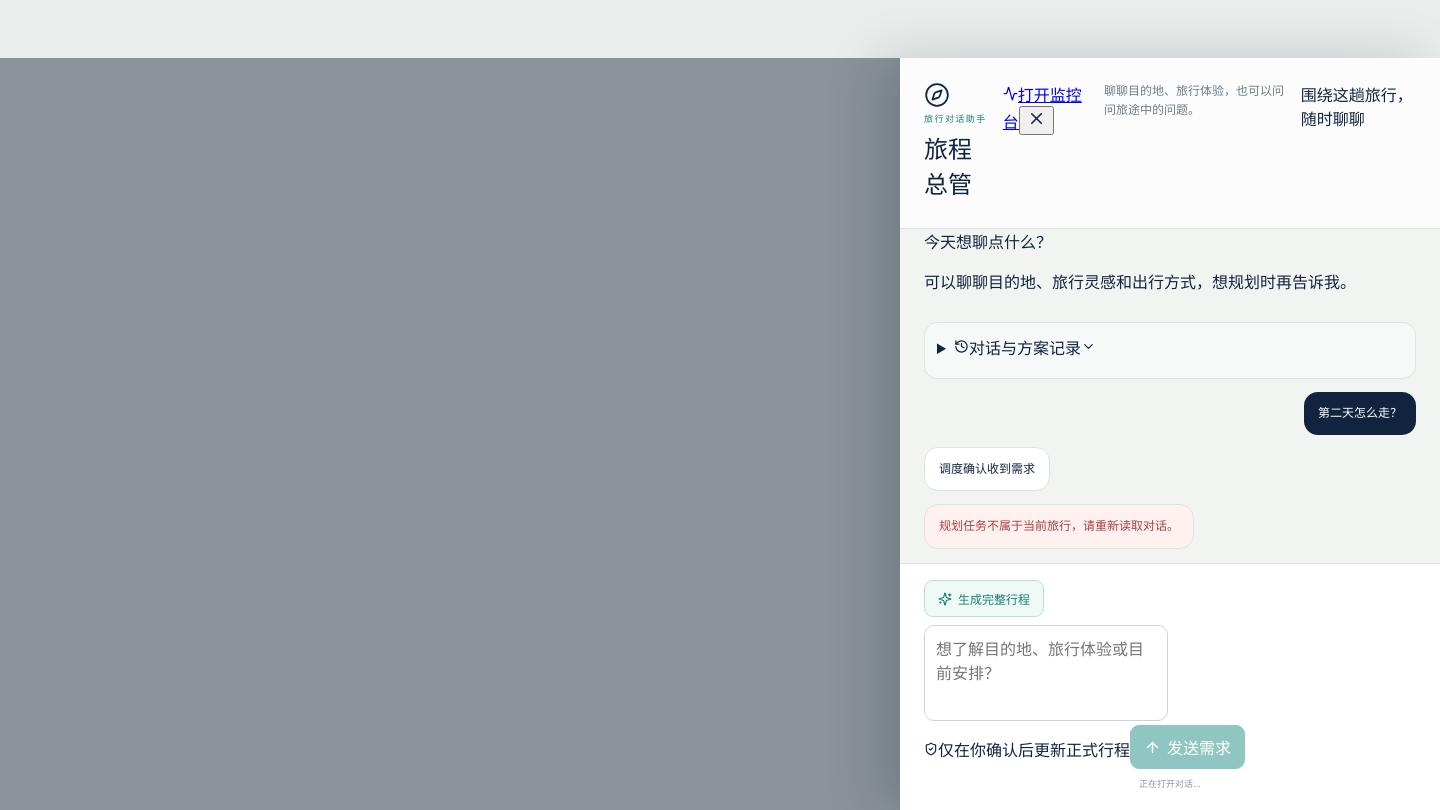
Test: renders the authoritative tool answer once in its conversation turn
(page scrolled)
Click the heading "对话与方案记录" at [1025, 348], box [954,338,1096,358]
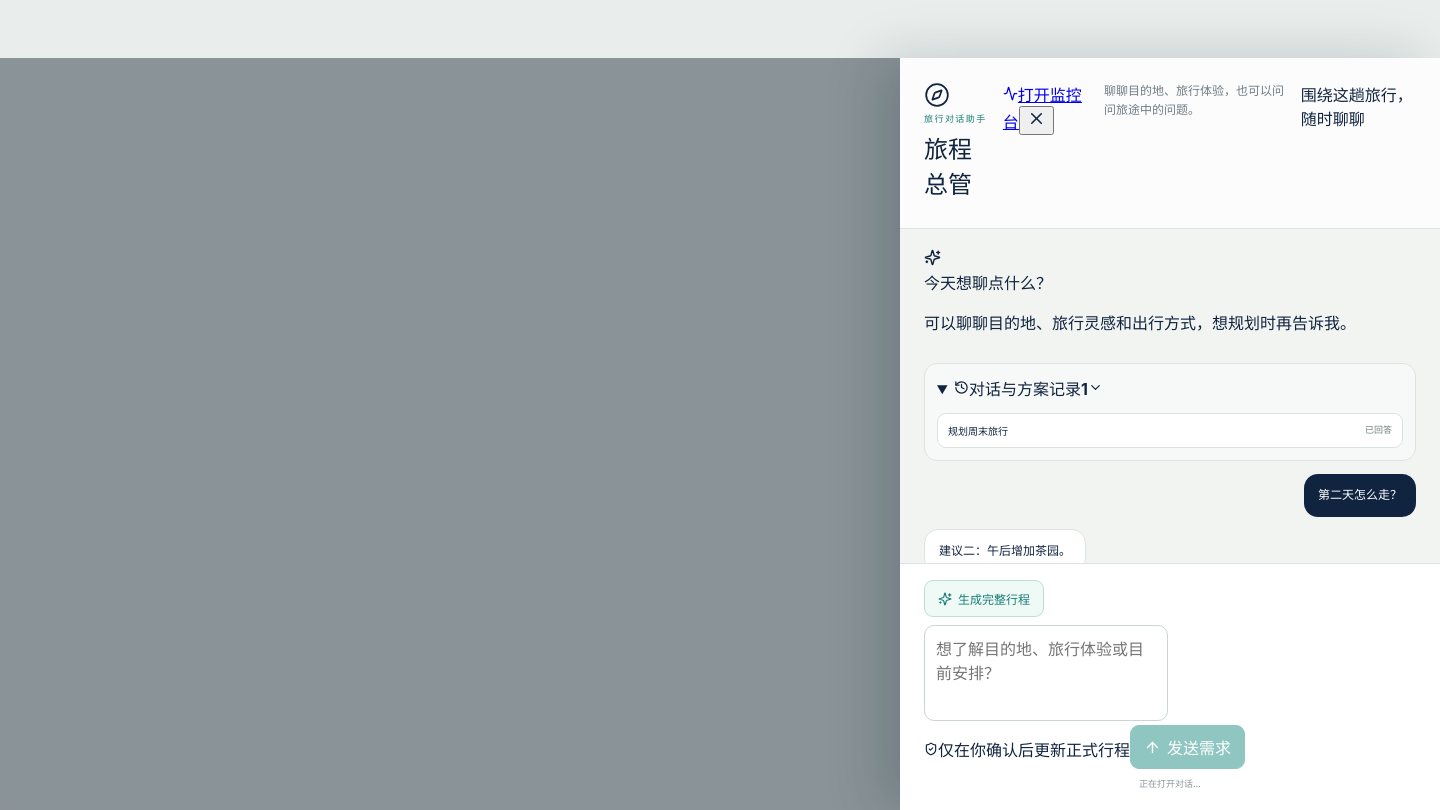
Result: the text "建议二：午后增加茶园。" is shown once at [939,542,1071,560]
Result: the text "调度确认收到需求" is gone
